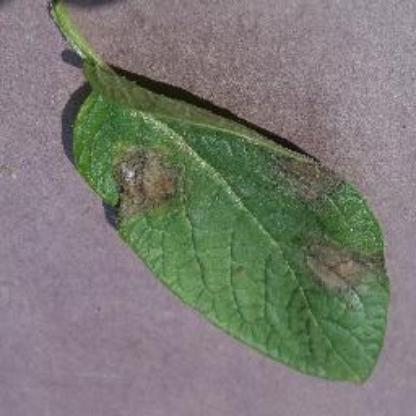Late-Blight: (64, 56, 406, 401)
